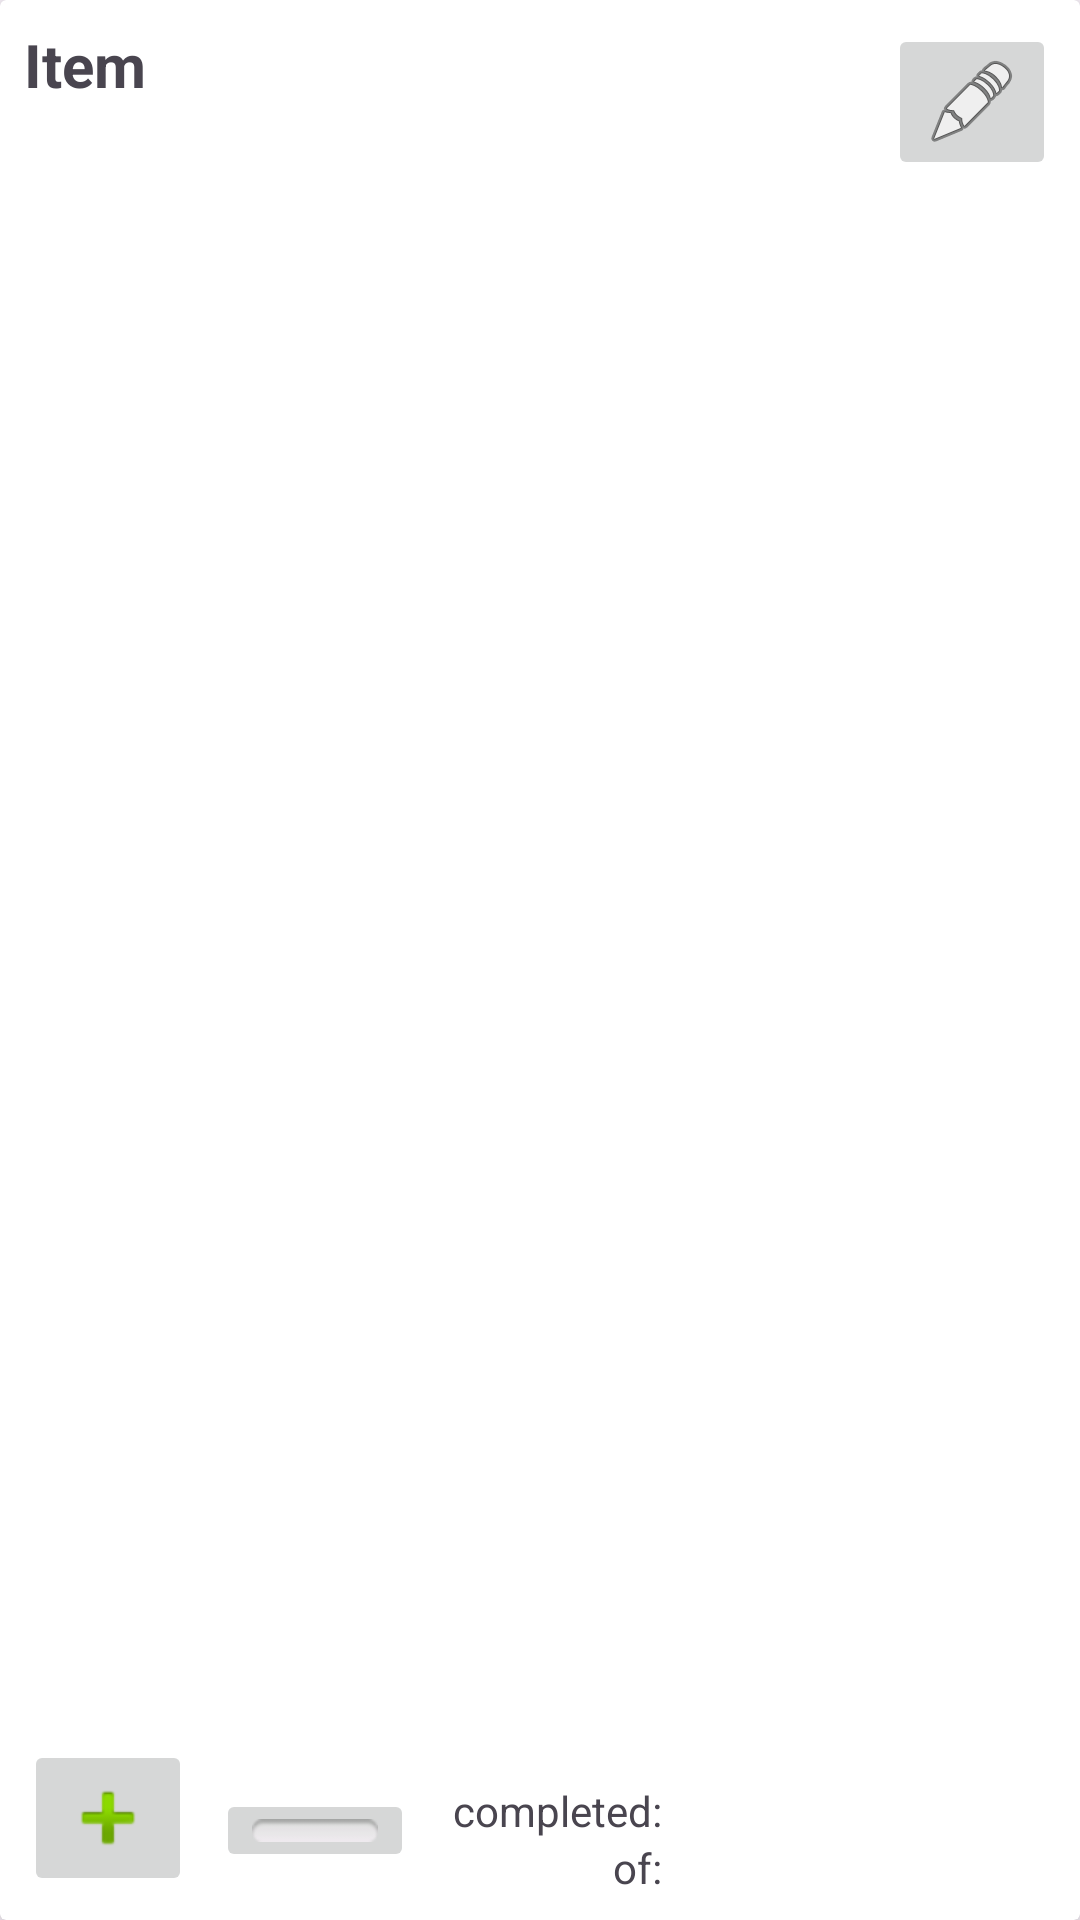

Where to tap for icons on this 1080px×1920px app screen, as (x,y):
add: (108,1818)
edit: (972,102)
onoff indicator off: (315,1830)
